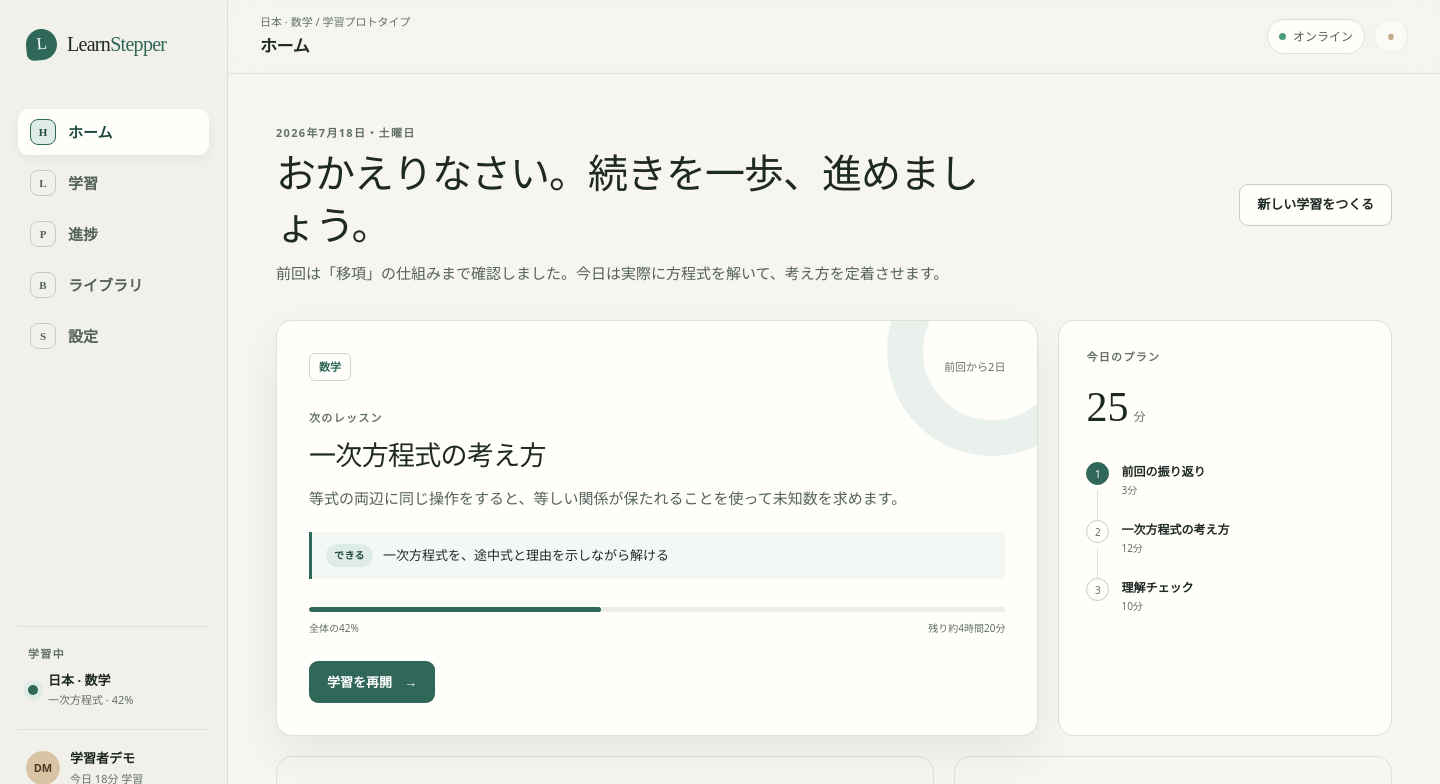
LearnStepper prototype journeys › offers exactly the seven MVP curriculum jurisdictions
Click the button "新しい学習をつくる" at (1316, 205), box [1239, 184, 1392, 226]
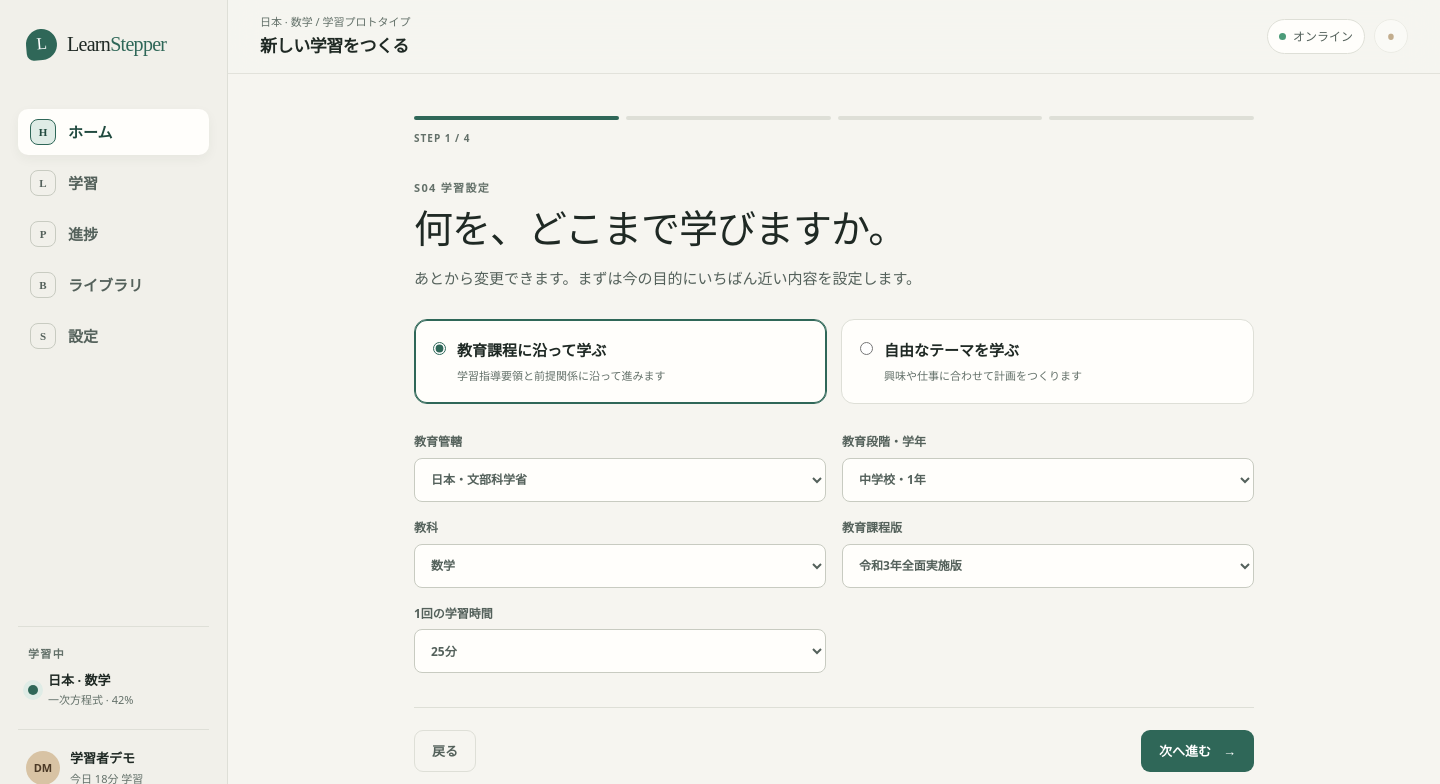
Expected: the option "UAE" is not shown
Select "ニューヨーク州・NYSED" in the dropdown labelled "教育管轄" at (620, 480), box [414, 458, 826, 502]
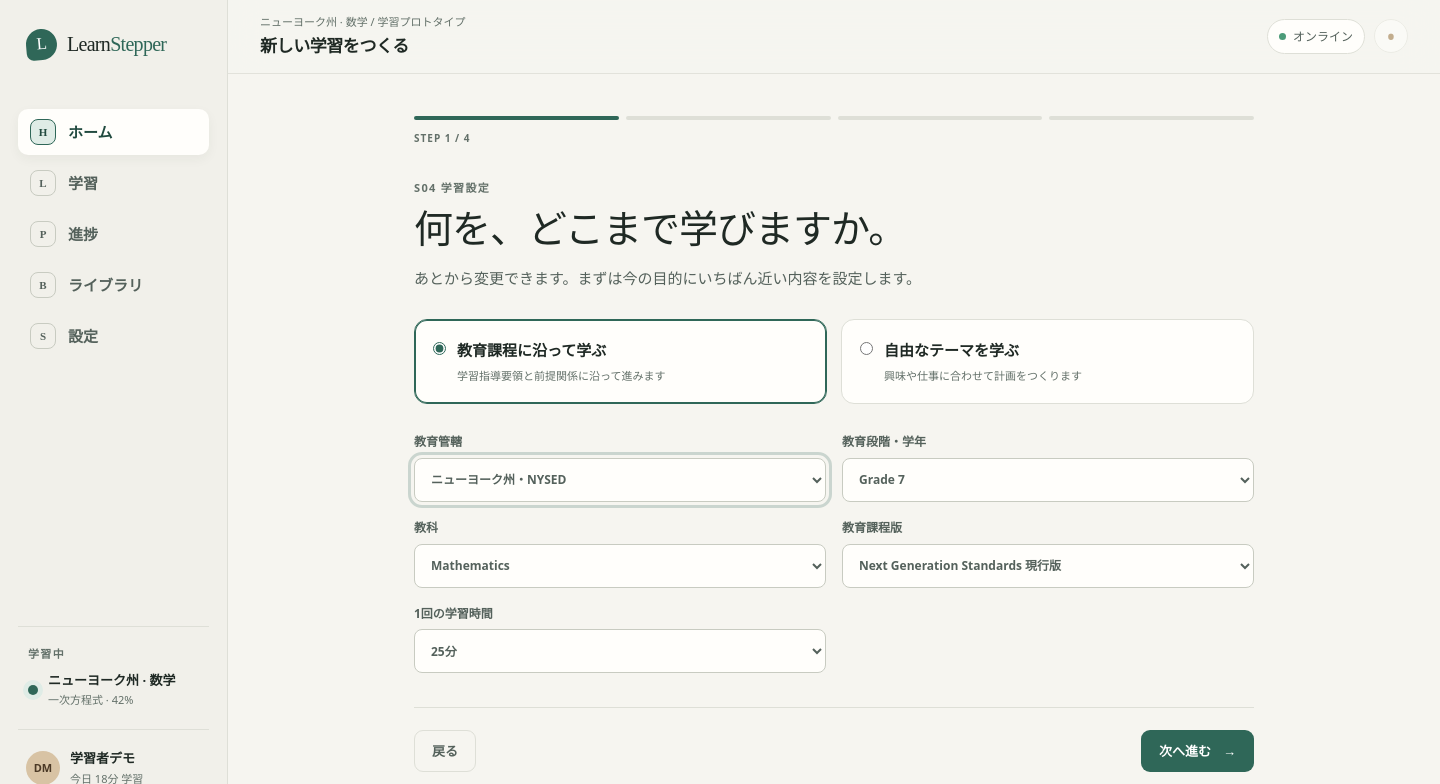
Expected: the option "中学校・1年" is not shown
Click the button "次へ進む →" at (1198, 751), box [1141, 730, 1254, 772]
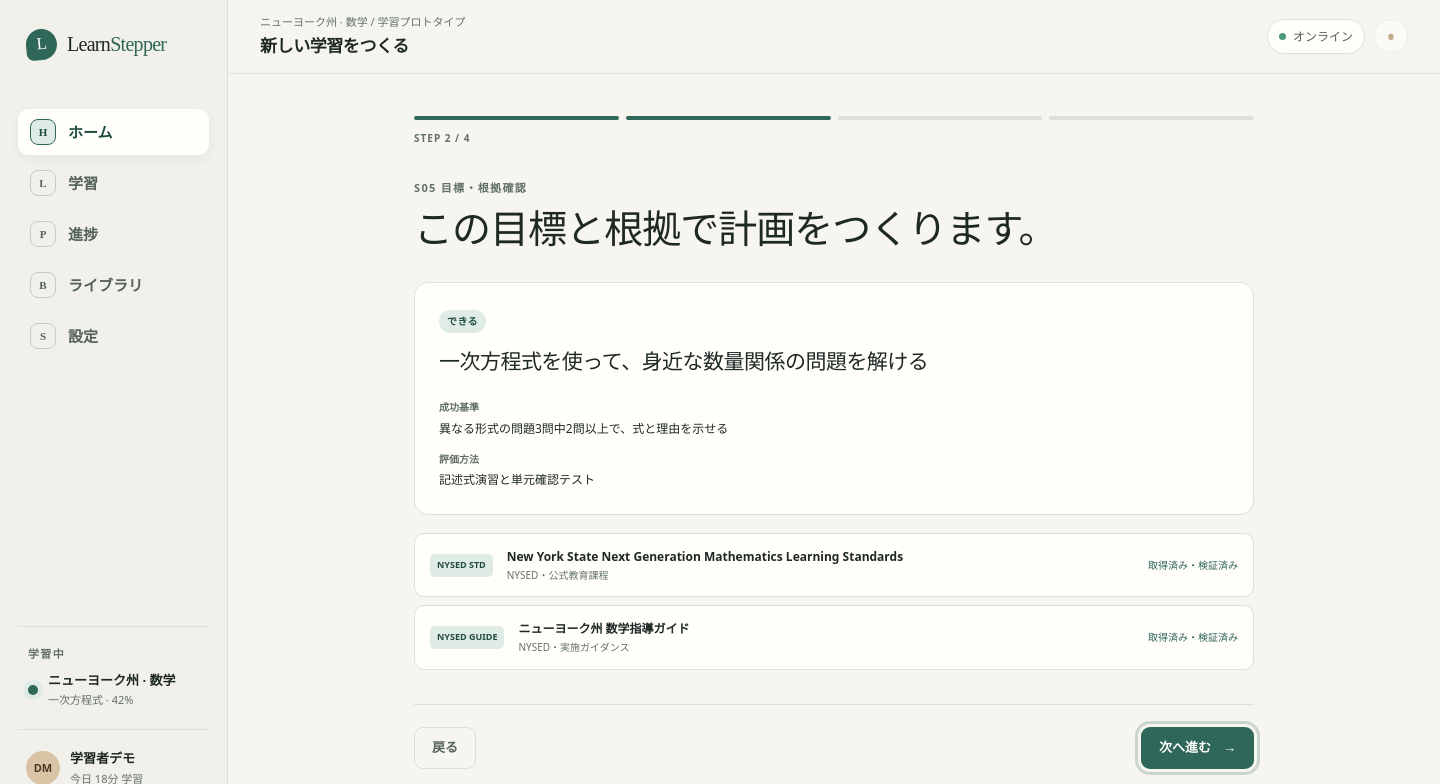
Expected: the text "中学校学習指導要領" is not shown
Expected: the text "New York State Next Generation Mathematics" is shown, [507, 548, 903, 565]
